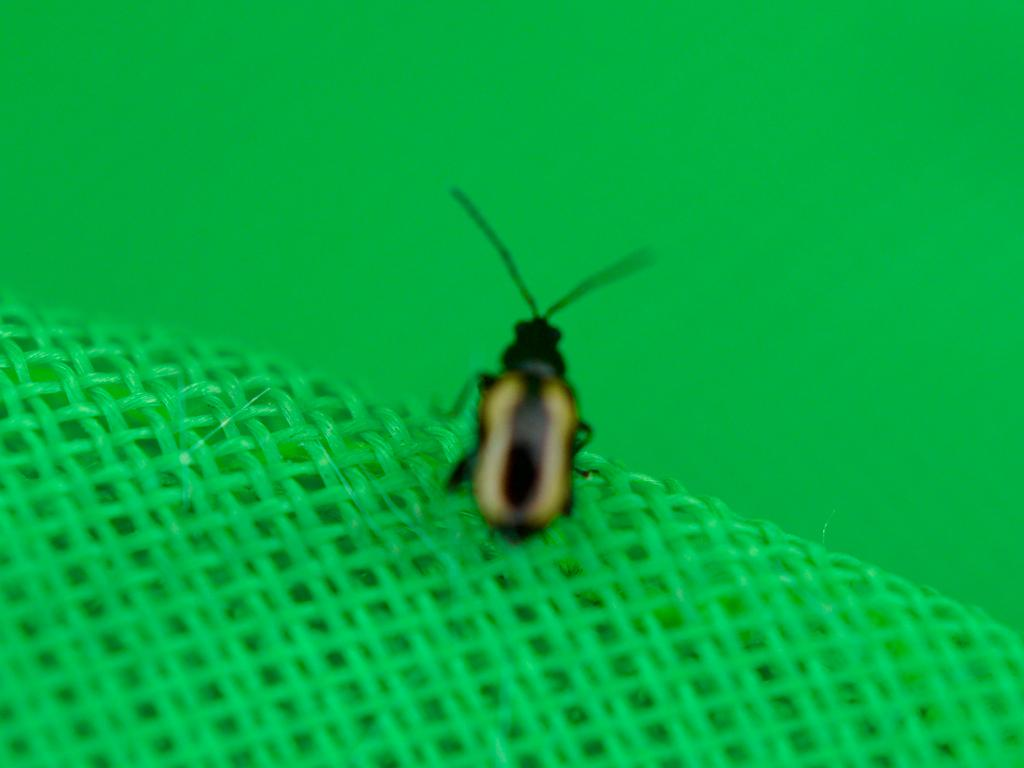flea_beetle: (398, 162, 704, 580)
